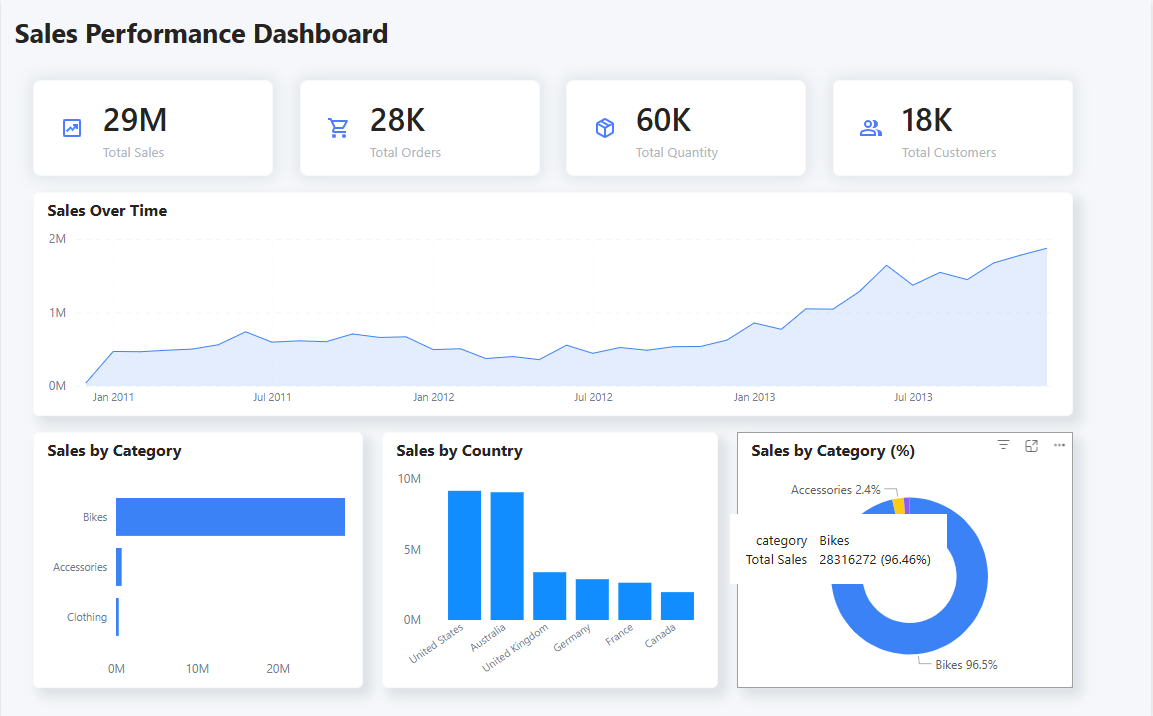

Layout of this report page (visuals, bound fields, positions):
{"tool":"powerbi","page":{"name":"Overview","canvas":[1150,720],"ordinal":0},"visuals":[{"type":"textbox","box":[0,0,416,64],"z":0},{"type":"cardVisual","fields":{"Data":["Measure.Total Sales"]},"box":[32,80,240,96],"z":1000},{"type":"lineChart","title":"Sales Over Time","fields":{"Y":["Measure.Total Sales"],"Category":["gold fact_sales.order_date.Variation.Date Hierarchy.Year","gold fact_sales.order_date.Variation.Date Hierarchy.Month"]},"box":[32,192,1040,224],"z":2000},{"type":"cardVisual","fields":{"Data":["Measure.Total Orders"]},"box":[298.7,80,240,96],"z":3000},{"type":"clusteredBarChart","title":"Sales by Category","fields":{"Category":["gold dim_products.category"],"Y":["Measure.Total Sales"]},"box":[32,432,330,256],"z":4000},{"type":"cardVisual","fields":{"Data":["Measure.Total Quantity"]},"box":[565.3,80,240,96],"z":5000},{"type":"donutChart","title":"Sales by Category (%)","fields":{"Category":["gold dim_products.category"],"Y":["Measure.Total Sales"]},"box":[736,432,336,256],"z":6000},{"type":"cardVisual","fields":{"Data":["Measure.Total Customers"]},"box":[832,80,240,96],"z":7000},{"type":"clusteredColumnChart","title":"Sales by Country","fields":{"Category":["gold dim_customers.country"],"Y":["Measure.Total Sales"]},"box":[381,432,336,256],"z":8000}]}

Visuals, with their boxes in screenshot pixels (x1, y1, x2, y2), scaled from the page's 1150x720 canvas onto the 1153x716 screenshot:
textbox: box(0, 0, 417, 64)
cardVisual - Measure.Total Sales: box(32, 80, 273, 175)
"Sales Over Time" lineChart: box(32, 191, 1075, 414)
cardVisual - Measure.Total Orders: box(299, 80, 540, 175)
"Sales by Category" clusteredBarChart: box(32, 430, 363, 684)
cardVisual - Measure.Total Quantity: box(567, 80, 807, 175)
"Sales by Category (%)" donutChart: box(738, 430, 1075, 684)
cardVisual - Measure.Total Customers: box(834, 80, 1075, 175)
"Sales by Country" clusteredColumnChart: box(382, 430, 719, 684)
